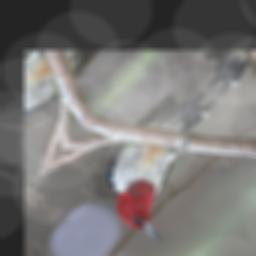Woodpecker: (76, 72, 256, 247)
